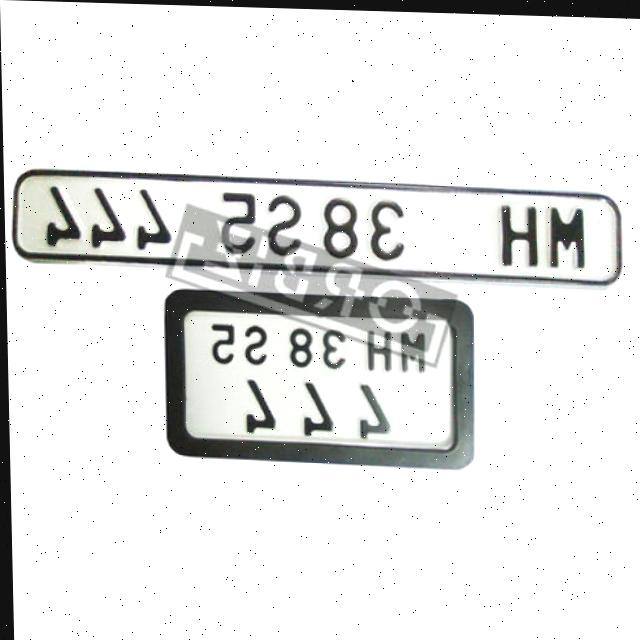plate: (7, 163, 628, 287), (158, 284, 479, 471)
